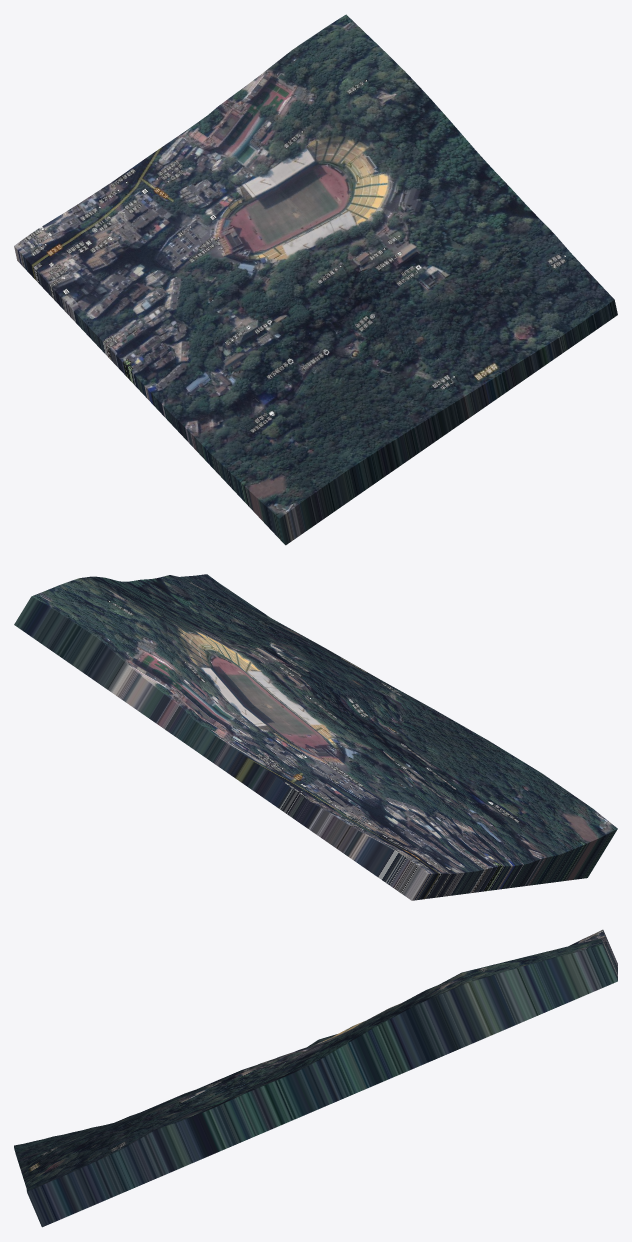
3 renders of one model, top to bottom at view 1: azimuth 30°, elevation 25°; view 2: azimuth 150°, elevation 25°; view 3: azimuth 270°, elevation 25°, orthographic. The views are drawn at different scales.
Visible parts, largest first — view 1: 0_7_11; view 2: 0_7_11; view 3: 0_7_11.
Boxes of the visible parts, x1=… form: 0_7_11: x1=14, y1=14, x2=617, y2=545; 0_7_11: x1=14, y1=574, x2=617, y2=900; 0_7_11: x1=14, y1=929, x2=617, y2=1227.
Bounding box in the file's own units: 605 × 459 × 568.
1 material, 1 textured.
